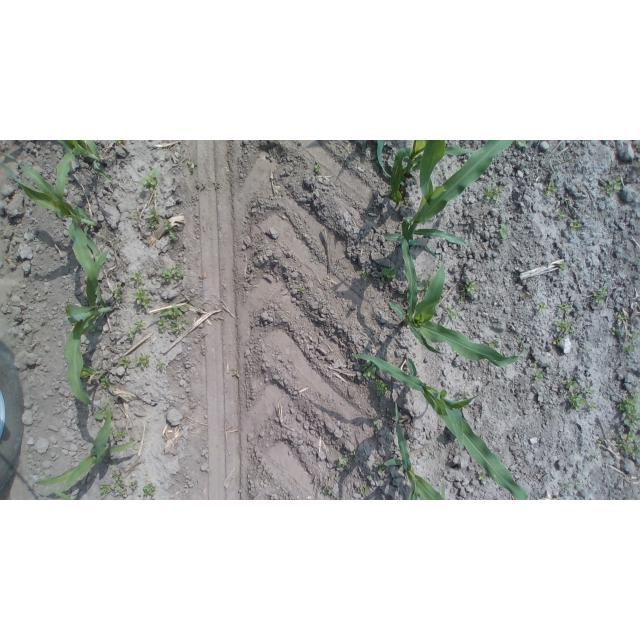Maize: (350, 352, 531, 501), (387, 236, 526, 366), (1, 150, 100, 291), (384, 140, 516, 244), (33, 392, 140, 495), (63, 246, 116, 407), (384, 398, 452, 500), (387, 141, 474, 204), (54, 140, 115, 182)
Weeds: (616, 393, 640, 457), (158, 302, 191, 335), (139, 167, 161, 191), (161, 266, 187, 285), (483, 183, 506, 203), (111, 472, 129, 497), (566, 393, 586, 412), (127, 320, 145, 341), (162, 221, 180, 242), (530, 361, 546, 383), (543, 178, 562, 196), (604, 177, 623, 195), (555, 319, 576, 335), (148, 208, 162, 231), (135, 289, 151, 309), (362, 360, 378, 380), (494, 223, 511, 241), (96, 407, 116, 422), (464, 279, 479, 295), (381, 265, 397, 280), (375, 380, 389, 397), (143, 483, 157, 498), (136, 353, 150, 368), (443, 307, 458, 321), (487, 337, 502, 351), (476, 468, 490, 483), (311, 163, 325, 177), (534, 299, 548, 313), (558, 302, 574, 314), (357, 483, 373, 495), (186, 158, 197, 175), (99, 483, 113, 496), (101, 375, 114, 389), (212, 179, 225, 193), (565, 378, 579, 391), (321, 485, 336, 497), (372, 417, 384, 432), (119, 356, 132, 369), (336, 456, 349, 469), (114, 427, 128, 439), (132, 271, 144, 285), (621, 342, 635, 354), (585, 399, 598, 411), (569, 220, 583, 231), (360, 271, 370, 286), (616, 312, 628, 324), (595, 289, 606, 302), (133, 209, 144, 222), (560, 481, 572, 492), (295, 285, 308, 295), (116, 285, 124, 301), (573, 478, 583, 490), (610, 327, 625, 335), (155, 362, 165, 373), (197, 180, 208, 190), (553, 335, 564, 345), (589, 454, 600, 464), (516, 140, 528, 149), (556, 210, 566, 220), (130, 481, 139, 492), (231, 370, 242, 379), (585, 387, 594, 397), (559, 264, 566, 276), (193, 335, 203, 342), (597, 441, 605, 449)
